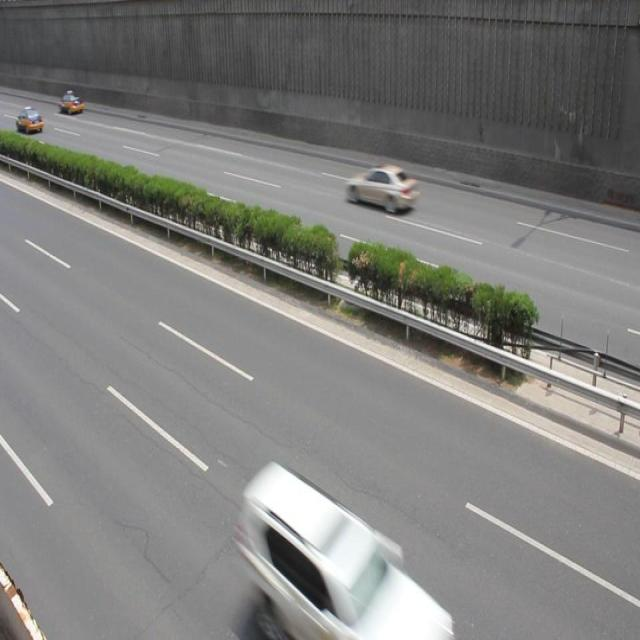car: (238, 461, 438, 640), (343, 162, 418, 211)
